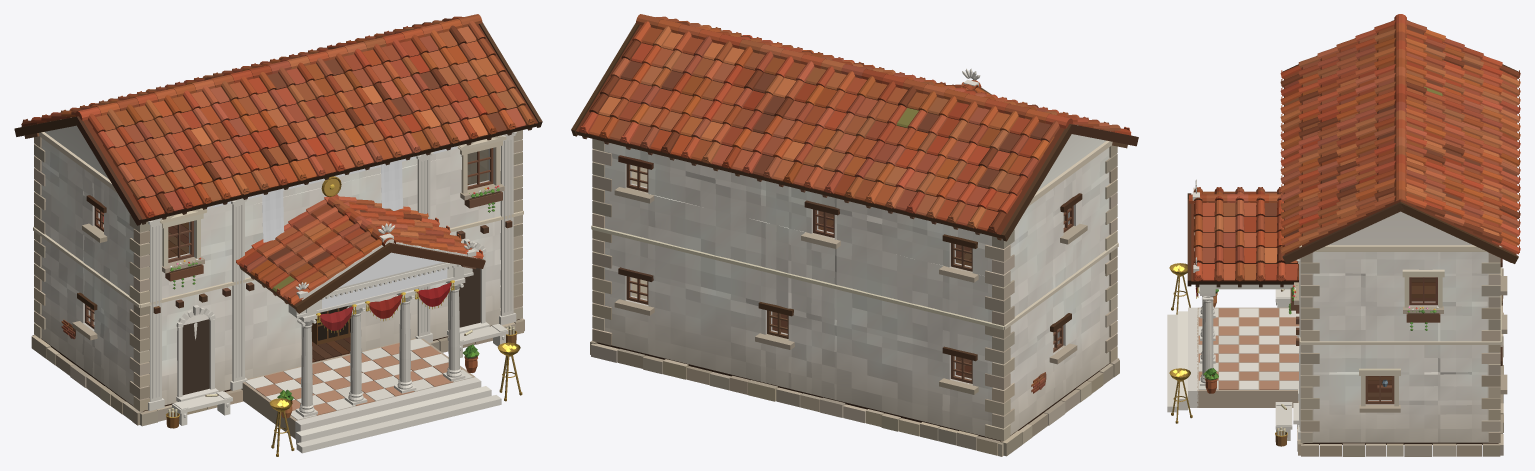
Rendered from civ_library.glb.
3 renders of one model, left to right at view 1: azimuth 30°, elevation 25°; view 2: azimuth 150°, elevation 25°; view 3: azimuth 270°, elevation 25°, orthographic. The views are drawn at different scales.
Visible parts, largest first — view 1: House, Walls, Rooms; view 2: House, Walls, Rooms; view 3: House, Walls, Rooms.
Boxes of the visible parts, <box> form: House: <box>14,14,542,456</box>; Walls: <box>41,125,519,405</box>; Rooms: <box>93,149,488,362</box>; House: <box>571,14,1138,456</box>; Walls: <box>595,134,1109,436</box>; Rooms: <box>631,165,1064,378</box>; House: <box>1167,14,1520,456</box>; Walls: <box>1302,211,1498,442</box>; Rooms: <box>1368,277,1435,400</box>.
Size of the model in its own units: 8.51 by 5.56 by 6.81.
Materials: 10 (10 with a texture image).
